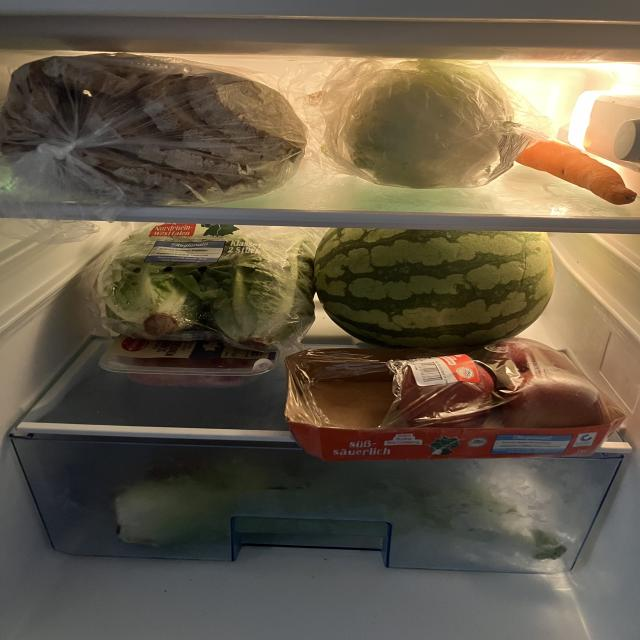Apples: (288, 348, 610, 458)
Meat: (95, 334, 278, 388)
Vegetable: (108, 462, 571, 558)
Watermelon: (324, 226, 566, 342)
bread: (0, 42, 309, 206)
cabbage: (312, 45, 520, 196)
carrot: (525, 122, 636, 208)
lettuce: (54, 218, 315, 354)
